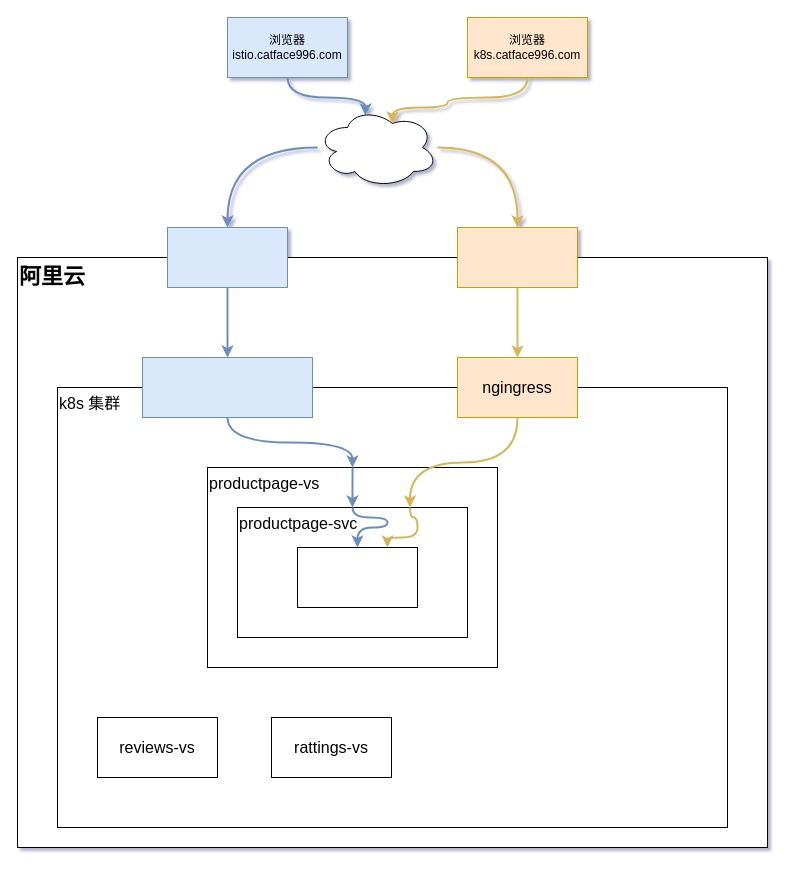
Some shapes in this 791 by 880 pixel diagram are drawn without their labels. The shapes that lost their labels are listed below. From the top down, each one's centre as x and y in pixels, then its label:
At (x=377, y=147): "公网".
At (x=227, y=257): "slb-for-istio".
At (x=517, y=257): "slb-for-ingress".
At (x=227, y=387): "istio-ingressgatewway".
At (x=357, y=577): "productpage-dp".
